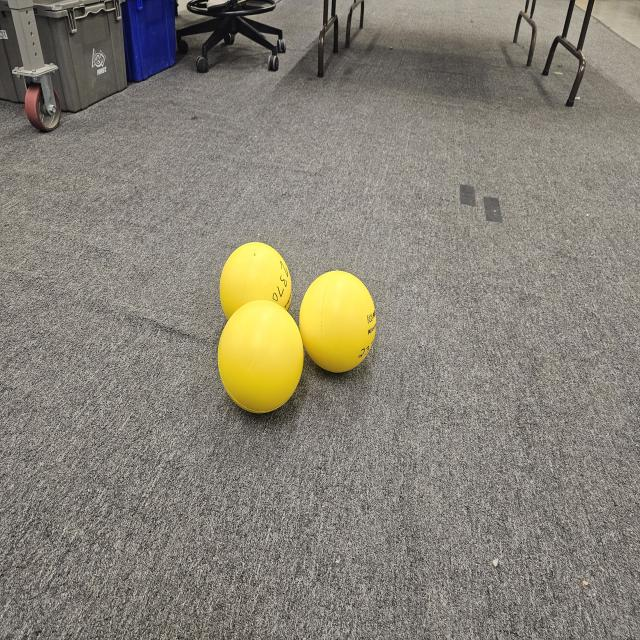Fuel: (218, 301, 304, 415), (301, 271, 375, 374), (219, 241, 293, 326)
